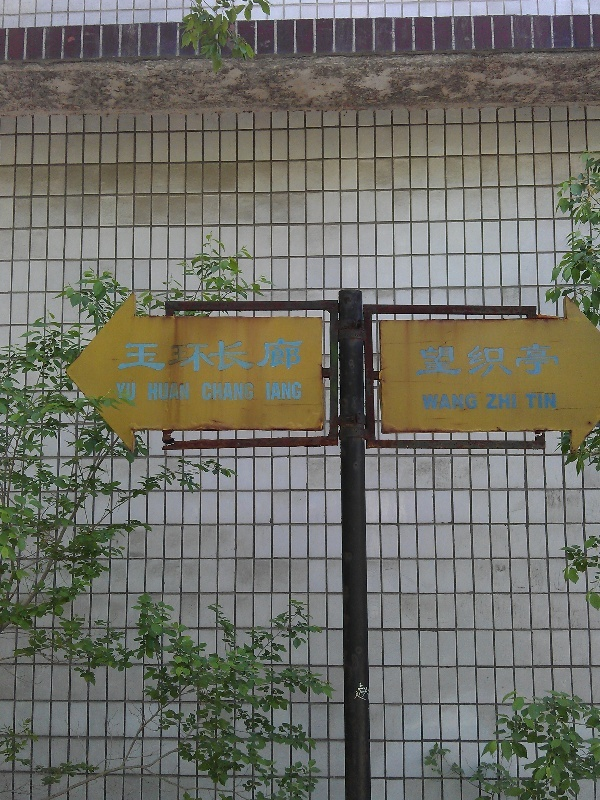text: (129, 338, 144, 376), (145, 338, 160, 376), (161, 338, 176, 376), (177, 338, 192, 376), (193, 338, 208, 376), (209, 338, 224, 376), (225, 338, 240, 376), (241, 338, 256, 376), (257, 338, 272, 376), (273, 338, 288, 376), (289, 338, 304, 376), (417, 343, 432, 380), (433, 343, 448, 380), (449, 343, 464, 380), (465, 343, 480, 380), (481, 343, 496, 380), (497, 343, 512, 380), (513, 343, 528, 380), (529, 343, 544, 380), (545, 343, 559, 380), (117, 338, 128, 376), (241, 383, 257, 401), (433, 393, 448, 412), (449, 393, 464, 412), (161, 382, 176, 401), (273, 382, 288, 401), (209, 383, 224, 401), (225, 383, 240, 401), (465, 393, 479, 412), (354, 682, 368, 701), (177, 382, 191, 401), (289, 382, 303, 401), (115, 382, 128, 402), (497, 393, 512, 410), (529, 393, 544, 410), (148, 382, 160, 401), (545, 393, 558, 410), (422, 393, 432, 412), (486, 393, 496, 410), (264, 382, 272, 401), (129, 382, 136, 402), (202, 383, 208, 401), (513, 393, 517, 410), (524, 393, 528, 410), (415, 343, 416, 380)
